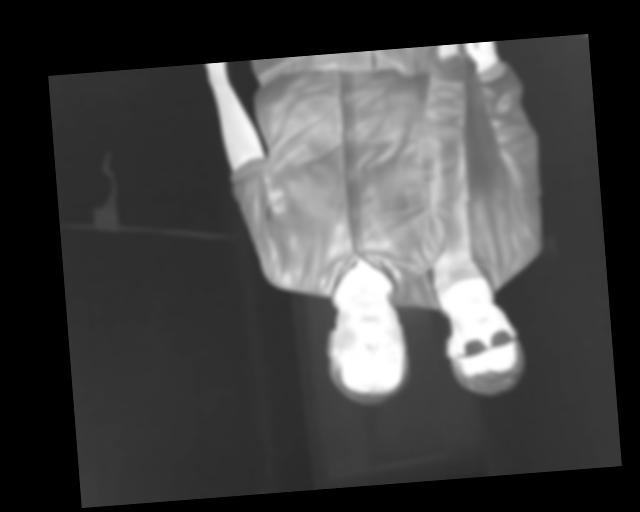face: (322, 292, 410, 408), (440, 295, 527, 400)
